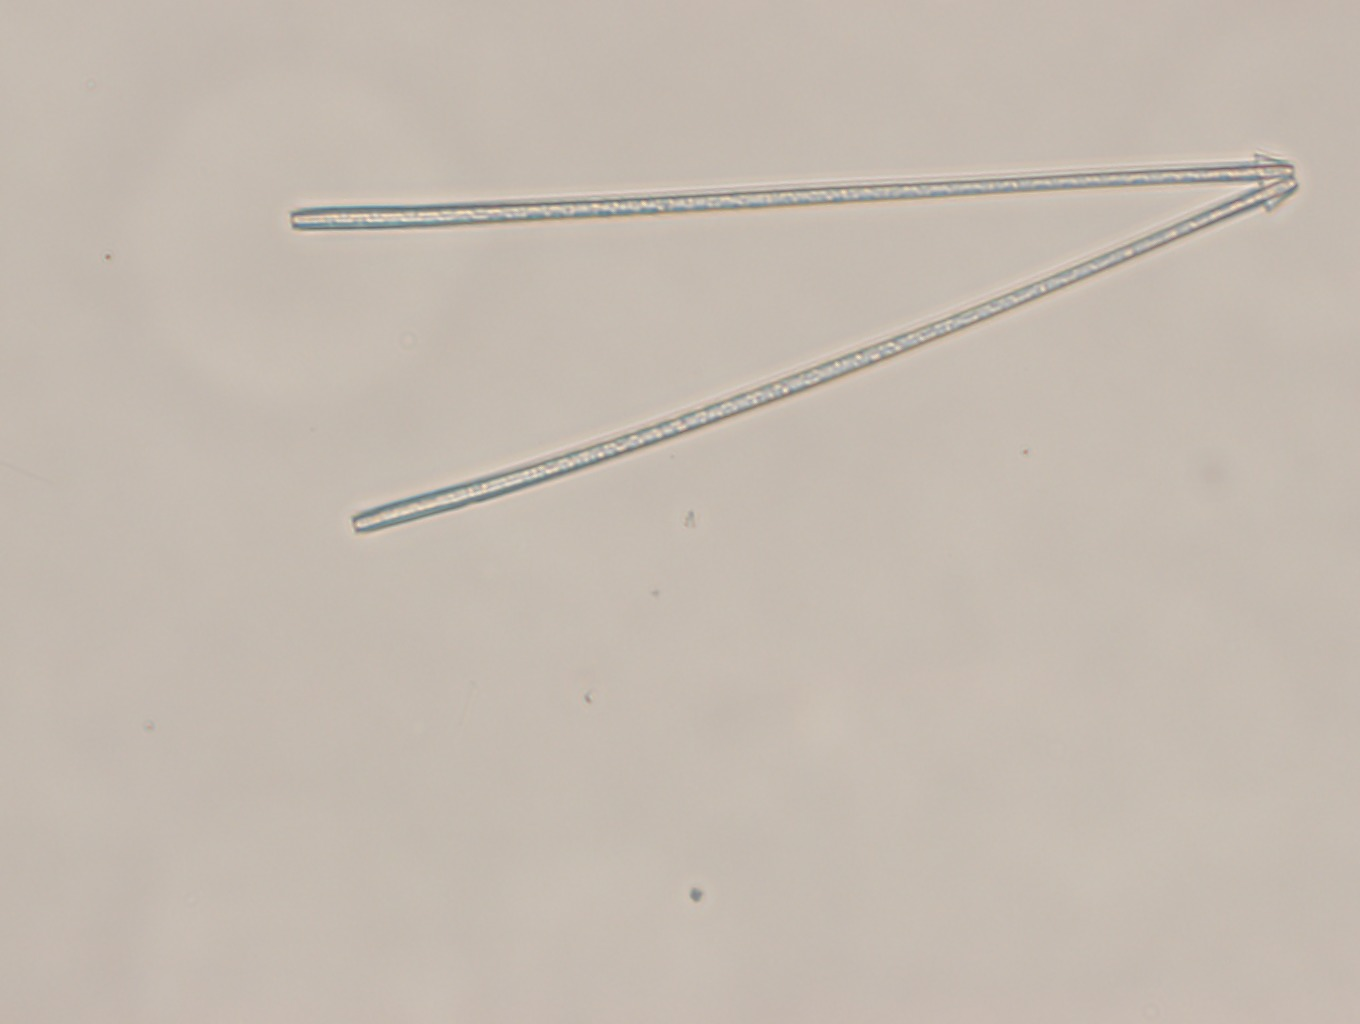thalassionema frauenfeldii: (267, 158, 1302, 535)
